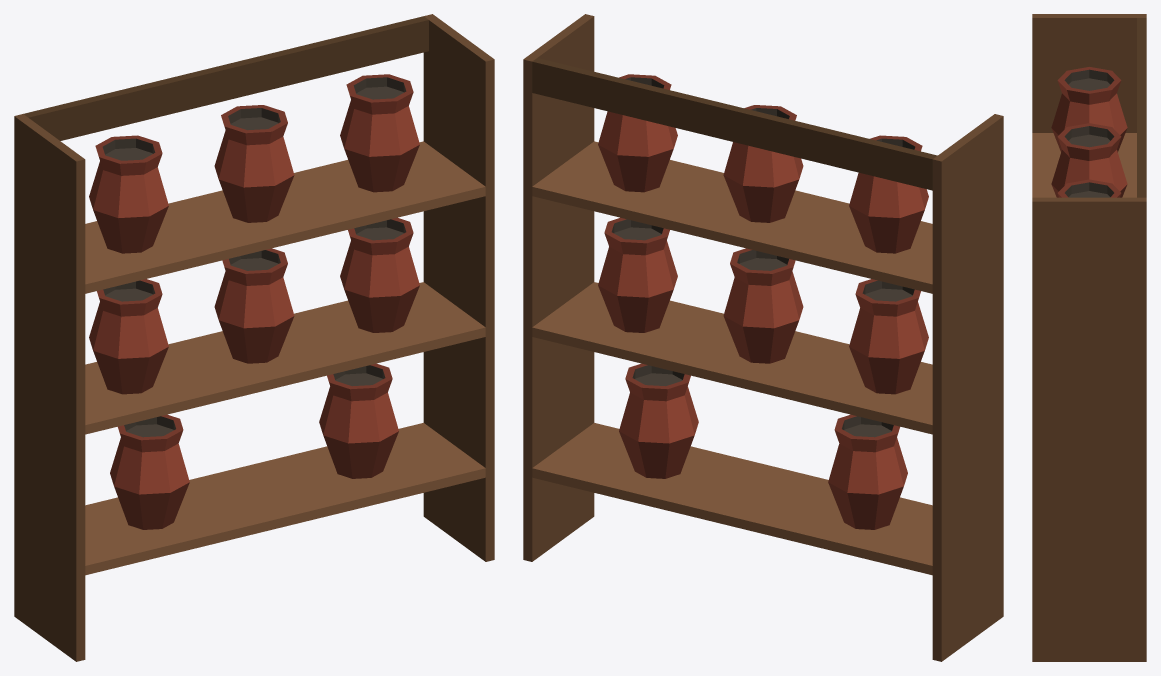
Rendered from kitchen-shelves.glb.
3 renders of one model, left to right at view 1: azimuth 30°, elevation 25°; view 2: azimuth 150°, elevation 25°; view 3: azimuth 270°, elevation 25°, orthographic. The views are drawn at different scales.
Visible parts, largest first — view 1: kitchen-shelves; view 2: kitchen-shelves; view 3: kitchen-shelves.
Boxes of the visible parts, x1,y1,x2,y2 form: kitchen-shelves: (14,14,494,661); kitchen-shelves: (523,14,1003,661); kitchen-shelves: (1032,14,1146,661).
Bounding box in the file's own units: 1.4 × 1.6 × 0.36.
1 material, 1 textured.
